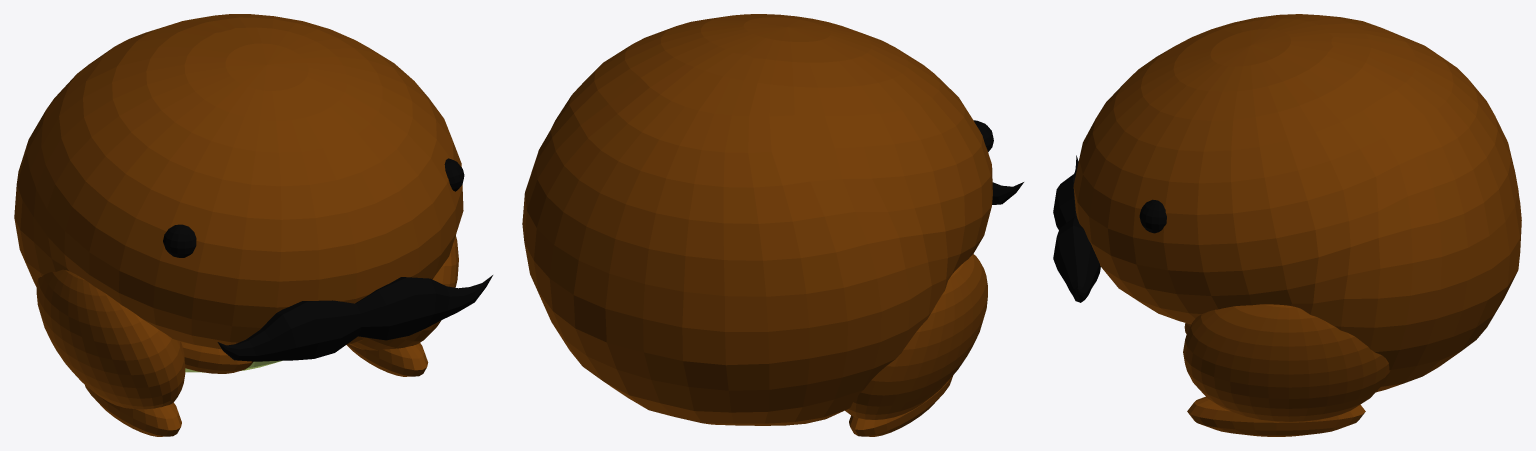
File: green_knight.fbx
3 renders of one model, left to right at view 1: azimuth 30°, elevation 25°; view 2: azimuth 150°, elevation 25°; view 3: azimuth 270°, elevation 25°, orthographic. The views are drawn at different scales.
Parts seen in each view (by area): view 1: Body, Legs, Mustache, Feet, Arms, Eyes; view 2: Body, Legs, Feet; view 3: Body, Legs, Mustache, Feet, Eyes.
Part boxes in pixels (box(x1,y1,x2,y2)): Body: box(14, 14, 463, 372); Legs: box(36, 235, 458, 409); Mustache: box(217, 275, 492, 361); Feet: box(85, 343, 428, 436); Arms: box(181, 336, 365, 373); Eyes: box(163, 158, 464, 257); Body: box(522, 14, 992, 425); Legs: box(845, 254, 987, 419); Feet: box(849, 375, 953, 436); Body: box(1073, 14, 1521, 392); Legs: box(1183, 304, 1389, 421); Mustache: box(1053, 155, 1100, 302); Feet: box(1187, 396, 1365, 436); Eyes: box(1139, 199, 1166, 233).
Size of the model in its own units: 101 by 86.99 by 111.
